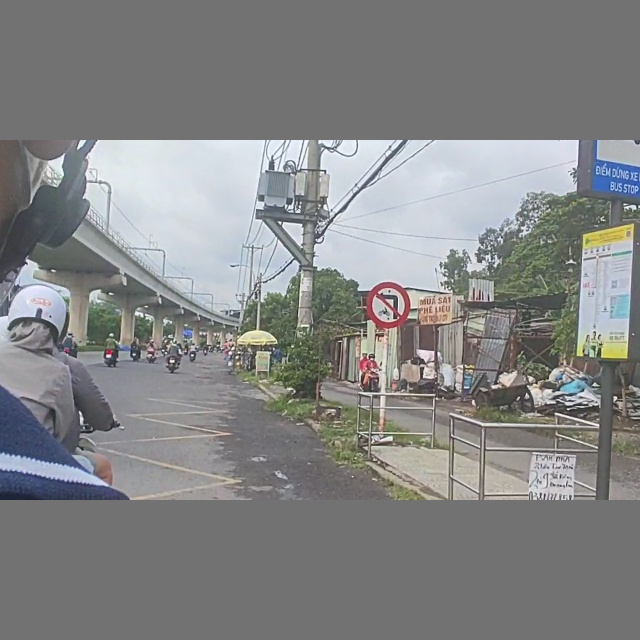I.434a: (575, 141, 640, 202)
P.123a: (365, 281, 411, 329)
